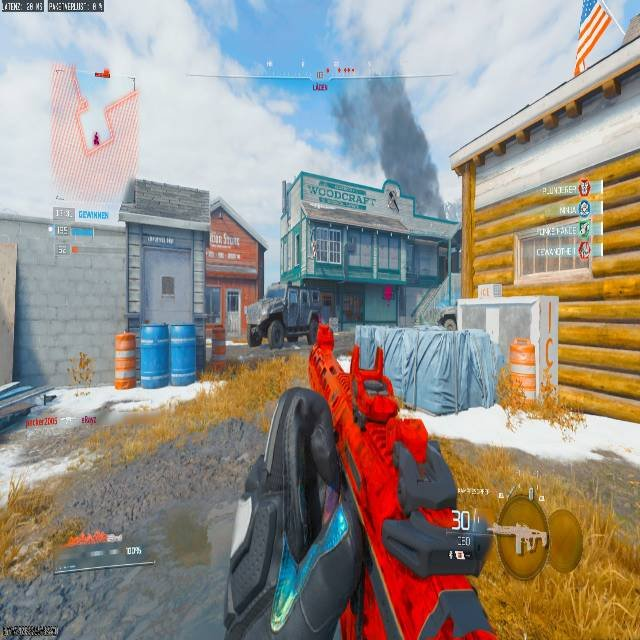player: (249, 304, 300, 350)
